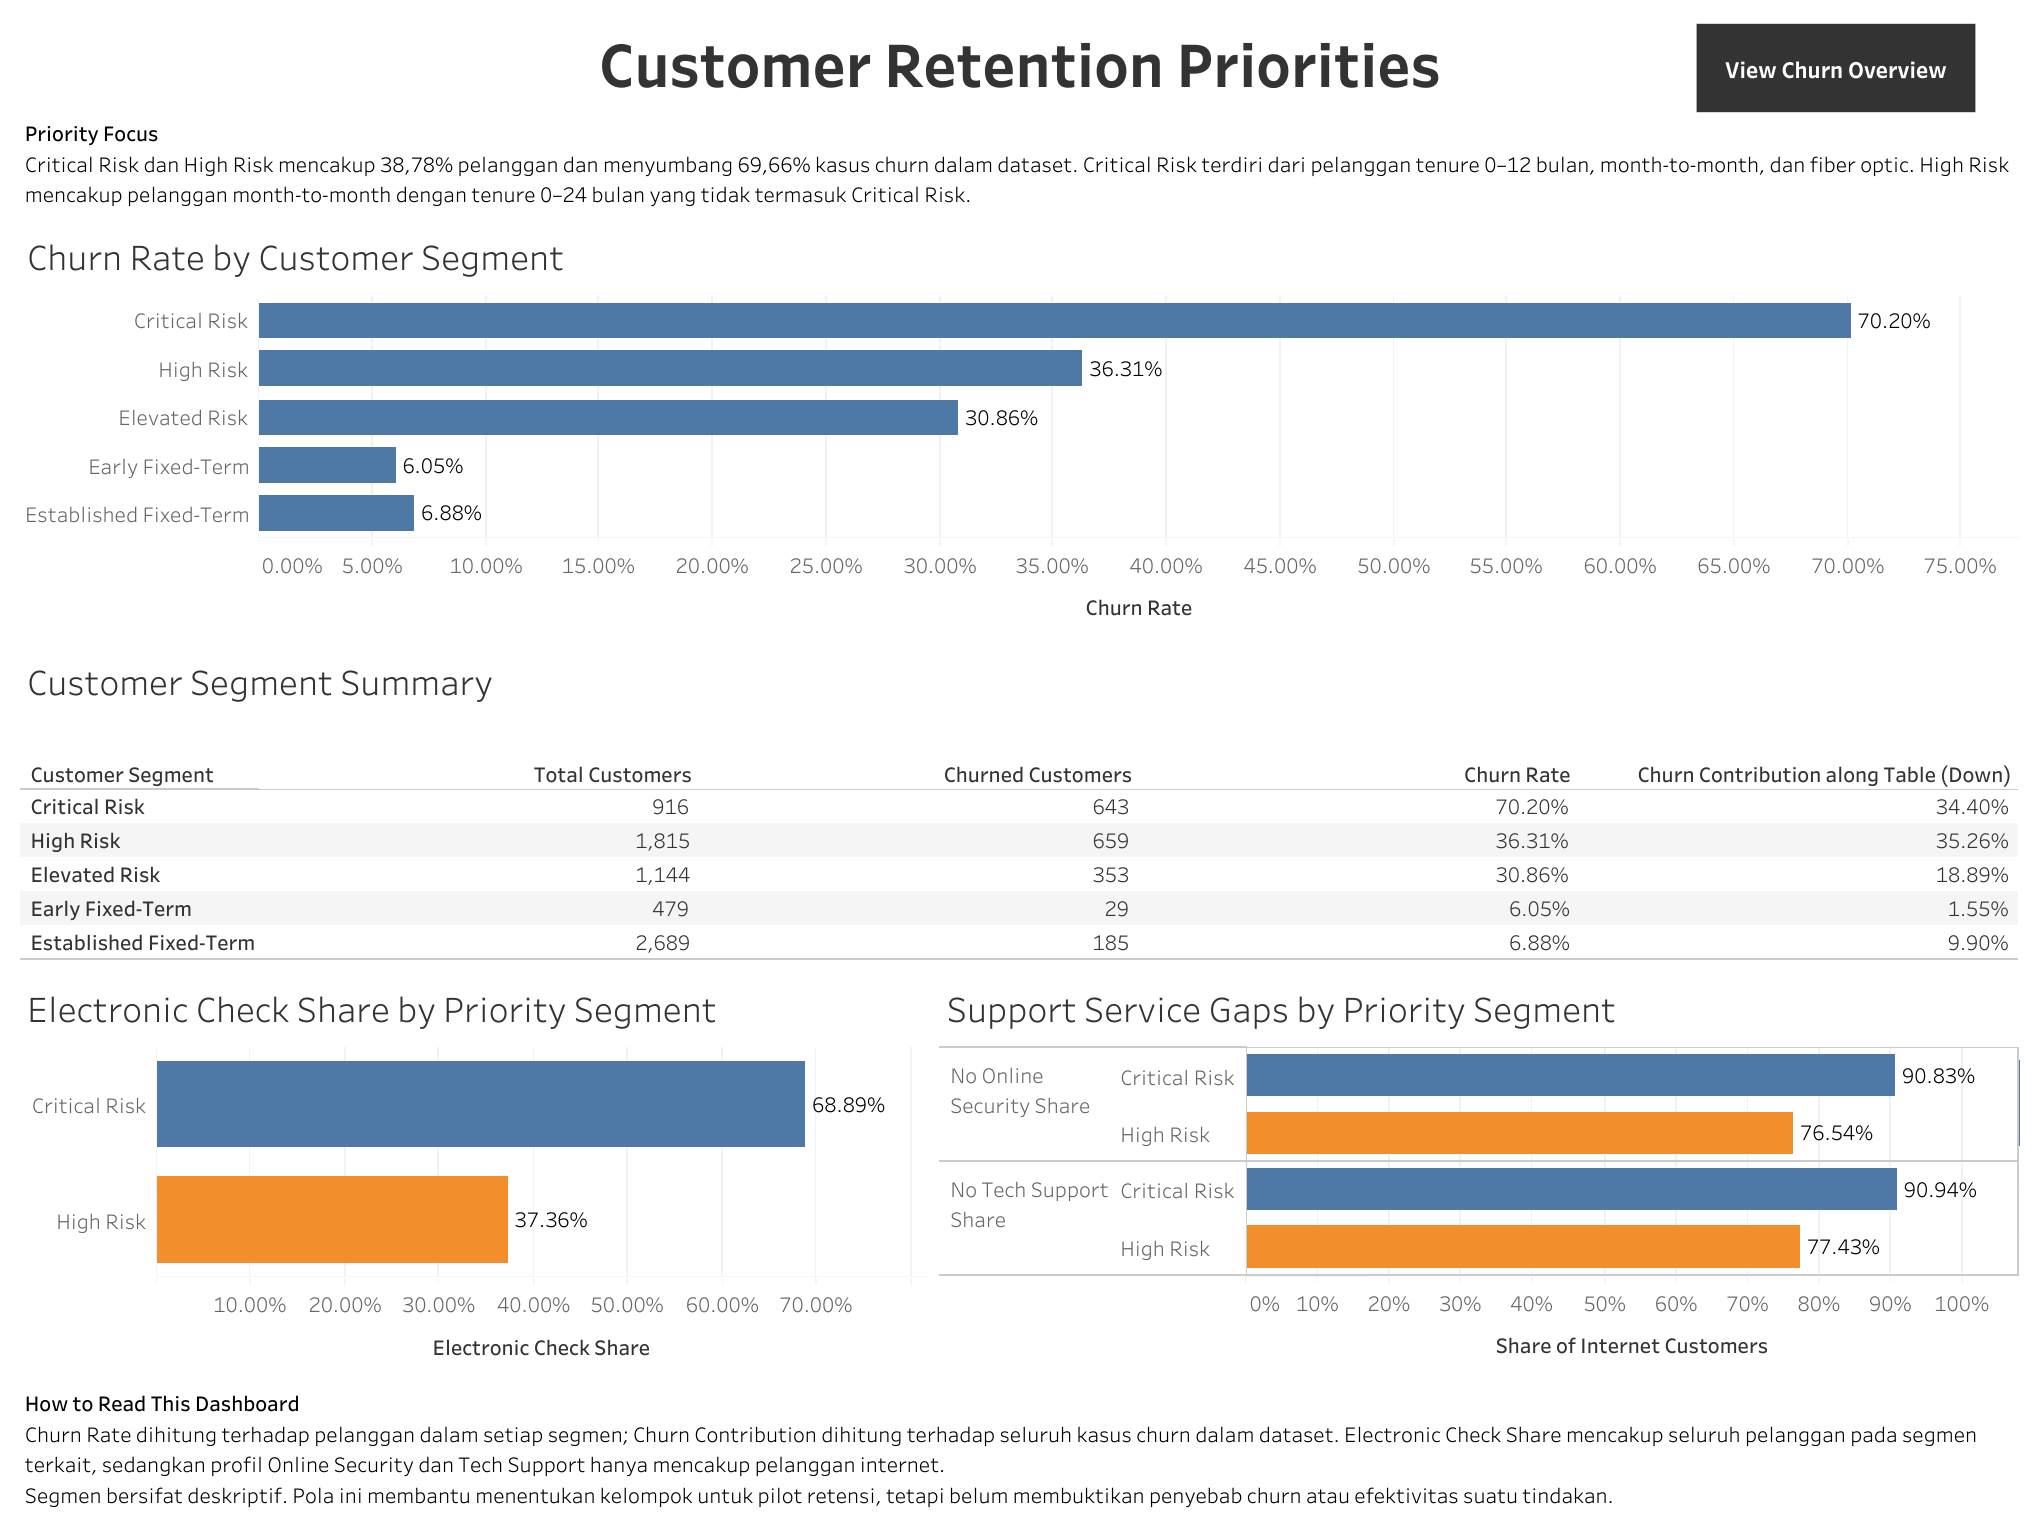

What the dashboard file says about the page in this screenshot:
{"tool":"tableau","page":{"name":"Retention Priorities","canvas":[1200,900],"ordinal":1},"visuals":[{"type":"title","box":[8,8,1184,56]},{"type":"dashboard-object","box":[998,14,164,52]},{"type":"text","box":[8,64,1184,59]},{"type":"worksheet","title":"Churn Rate by Customer Segment","mark":"Automatic","rows":["CustomerSegment"],"cols":["Calculation_4287596579495938"],"box":[8,123,1184,250]},{"type":"worksheet","title":"Customer Segment Summary","mark":"Automatic","rows":["CustomerSegment"],"box":[8,373,1184,192]},{"type":"worksheet","title":"Electronic Check Share by Priority Segment","mark":"Automatic","rows":["CustomerSegment"],"cols":["Calculation_4287596988309508"],"box":[8,565,541,251]},{"type":"worksheet","title":"Support Service Gaps by Priority Segment","mark":"Automatic","rows":["CustomerSegment"],"box":[549,565,643,251]},{"type":"text","box":[8,816,1184,76]}]}

Visuals, with their boxes in screenshot pixels (x1, y1, x2, y2), scaled from the page's 1200x900 canvas onto the 2038x1528 screenshot:
title: [14, 14, 2024, 109]
dashboard-object: [1695, 24, 1973, 112]
text: [14, 109, 2024, 209]
"Churn Rate by Customer Segment" worksheet: [14, 209, 2024, 633]
"Customer Segment Summary" worksheet: [14, 633, 2024, 959]
"Electronic Check Share by Priority Segment" worksheet: [14, 959, 932, 1385]
"Support Service Gaps by Priority Segment" worksheet: [932, 959, 2024, 1385]
text: [14, 1385, 2024, 1514]
